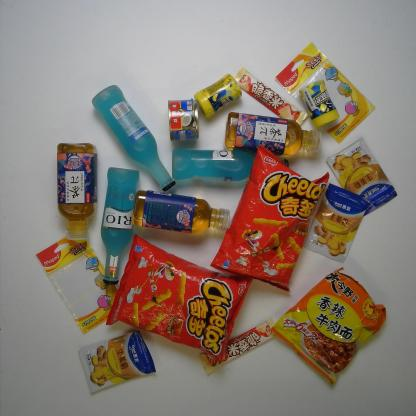Alcohol: (88, 81, 178, 194), (99, 164, 144, 287), (167, 144, 292, 187)
Canned Food: (166, 97, 200, 143)
Chocolate: (194, 317, 283, 379), (232, 66, 311, 130)
Drink: (129, 188, 232, 241), (223, 110, 324, 160), (53, 140, 100, 243)
Gum: (192, 71, 244, 119), (297, 76, 341, 130)
Instant Noodles: (267, 266, 389, 390)
Puffed Food: (102, 231, 257, 367), (206, 140, 334, 296)
Seasoner: (323, 134, 400, 219), (300, 180, 374, 266), (74, 327, 159, 397)
Stationery: (274, 40, 378, 145), (34, 232, 124, 337)
